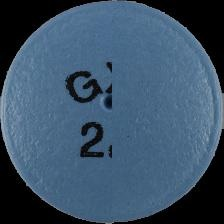55154-0539: (0, 0, 224, 224)
